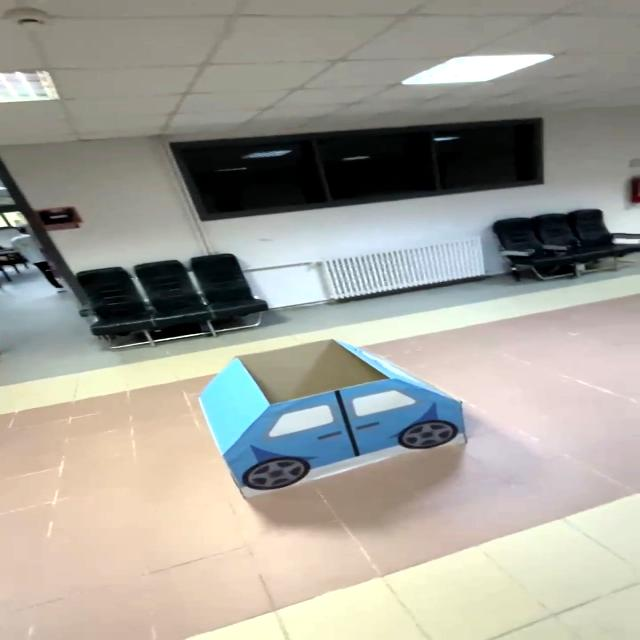blue_car: (167, 331, 487, 497)
